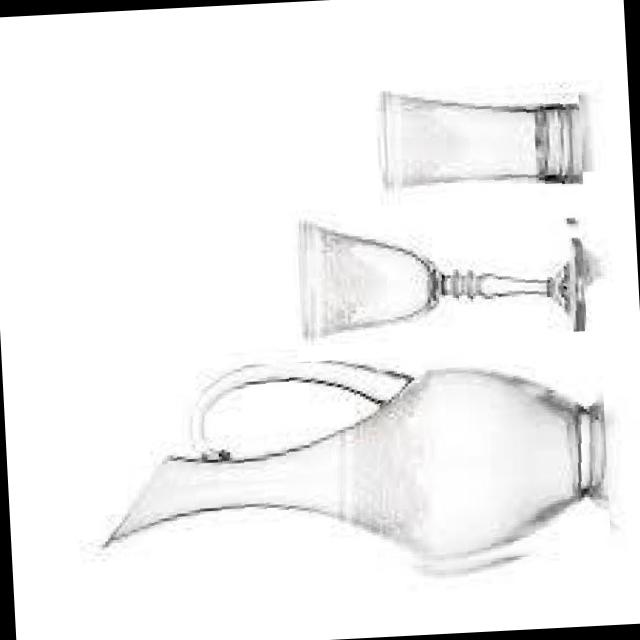Glass: (87, 345, 612, 596), (296, 202, 586, 345), (379, 76, 583, 194)
